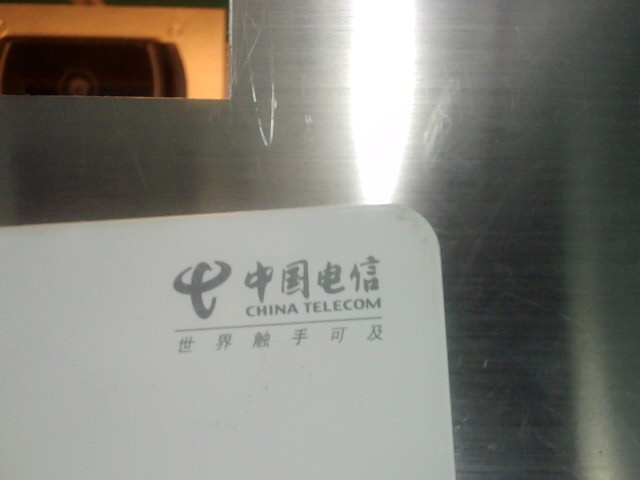AB_ChinaTelecom: (164, 253, 410, 355)
